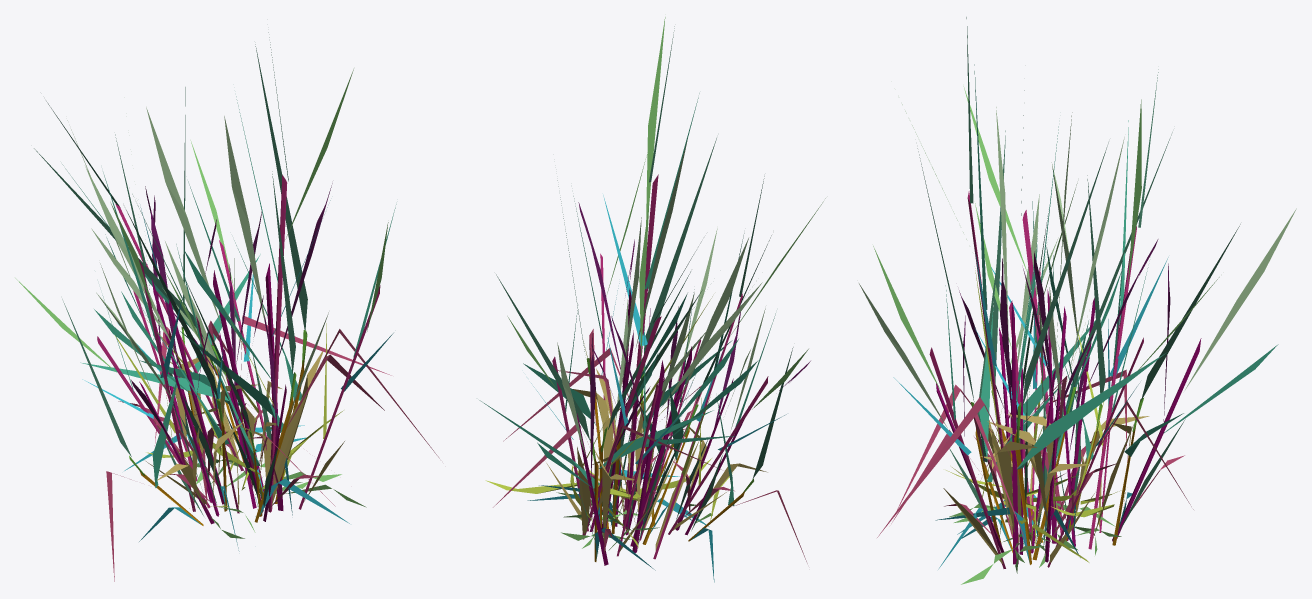
The model's file is grass_pile.fbx.
3 renders of one model, left to right at view 1: azimuth 30°, elevation 25°; view 2: azimuth 150°, elevation 25°; view 3: azimuth 270°, elevation 25°, orthographic. The views are drawn at different scales.
Parts seen in each view (by area): view 1: CreepingBentgrass_Big_CLUMP_LOW_001; view 2: CreepingBentgrass_Big_CLUMP_LOW_001; view 3: CreepingBentgrass_Big_CLUMP_LOW_001.
Part boxes in pixels (x1,y1,x2,y2): CreepingBentgrass_Big_CLUMP_LOW_001: (15,32,439,581); CreepingBentgrass_Big_CLUMP_LOW_001: (479,17,825,582); CreepingBentgrass_Big_CLUMP_LOW_001: (859,17,1296,584).
Size of the model in its own units: 134 by 199 by 145.
